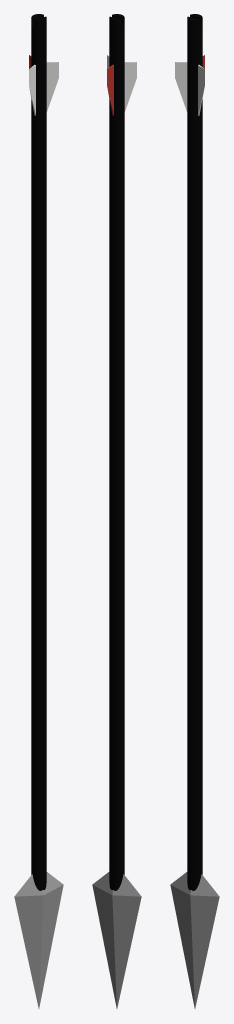
Rendered from Стрела.fbx.
3 renders of one model, left to right at view 1: azimuth 30°, elevation 25°; view 2: azimuth 150°, elevation 25°; view 3: azimuth 330°, elevation 25°, orthographic.
Parts seen in each view (by area): view 1: Древко стрелы, Наконечник, Оперение (1), Оперение (2); view 2: Древко стрелы, Наконечник, Оперение (2), Оперение; view 3: Древко стрелы, Наконечник, Оперение (2), Оперение (1).
Part boxes in pixels (x1,y1,x2,y2): Древко стрелы: (31, 14, 46, 890); Наконечник: (14, 872, 63, 1008); Оперение (1): (46, 61, 58, 111); Оперение (2): (29, 64, 35, 115); Древко стрелы: (109, 14, 124, 890); Наконечник: (92, 872, 141, 1008); Оперение (2): (124, 61, 136, 111); Оперение: (107, 64, 113, 115); Древко стрелы: (187, 14, 202, 890); Наконечник: (170, 872, 219, 1008); Оперение (2): (175, 61, 187, 111); Оперение (1): (198, 64, 204, 115).
Bounding box in the file's own units: 3.78 × 72.53 × 1.98.
